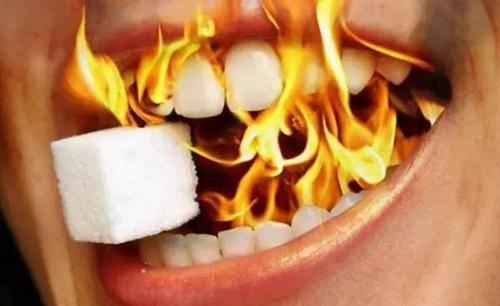fire: (96, 0, 466, 235)
